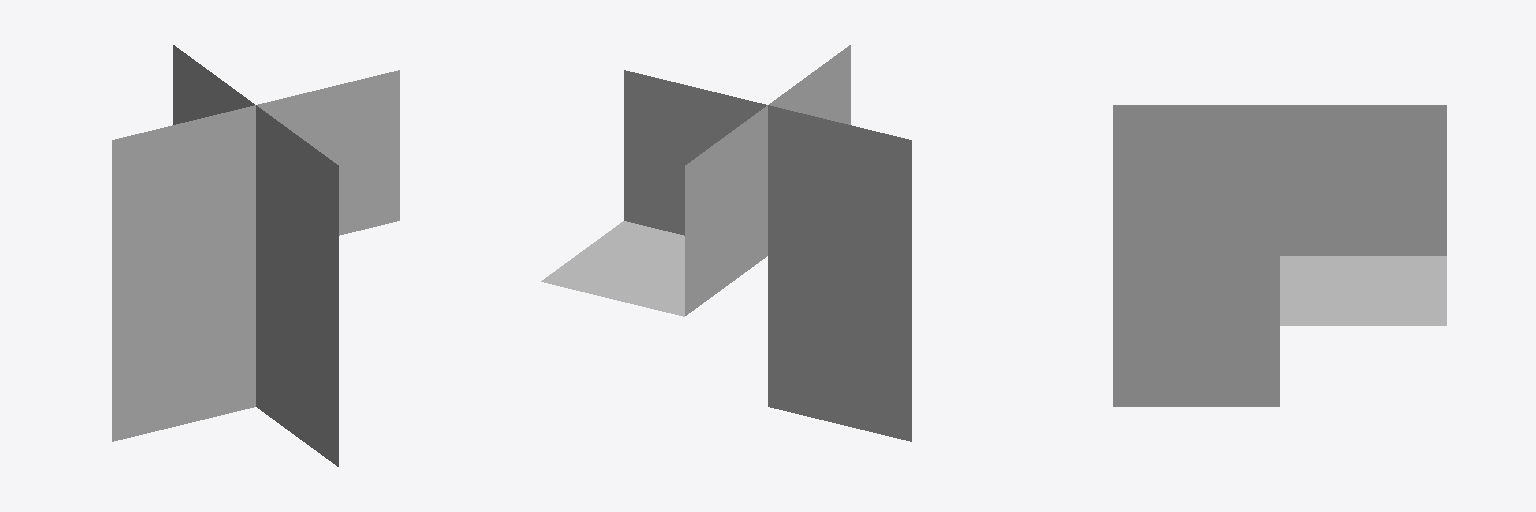
3 renders of one model, left to right at view 1: azimuth 30°, elevation 25°; view 2: azimuth 150°, elevation 25°; view 3: azimuth 270°, elevation 25°, orthographic.
Parts seen in each view (by area): view 1: 0101_0100_立方体.079; view 2: 0101_0100_立方体.079; view 3: 0101_0100_立方体.079.
Boxes of the visible parts, x1=… form: 0101_0100_立方体.079: x1=112, y1=45, x2=399, y2=466; 0101_0100_立方体.079: x1=541, y1=45, x2=911, y2=441; 0101_0100_立方体.079: x1=1113, y1=105, x2=1446, y2=406.
Bounding box in the file's own units: 1 × 1 × 1.